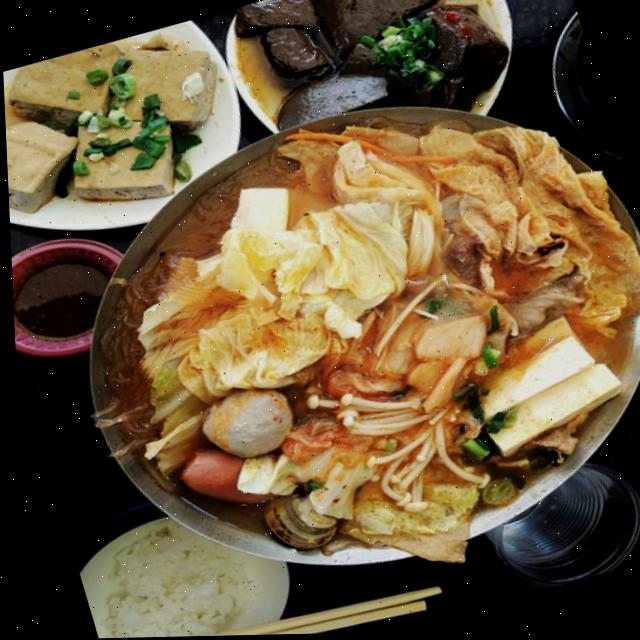汤锅炖物: (12, 46, 640, 640)
